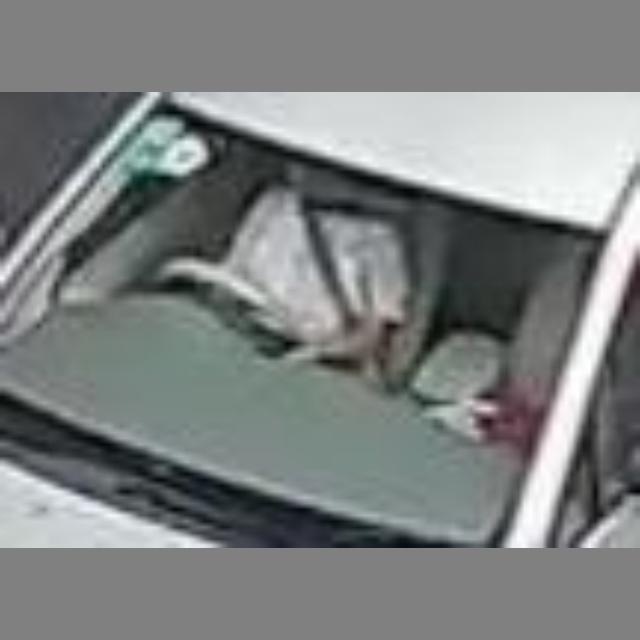pakai: (213, 169, 421, 376)
